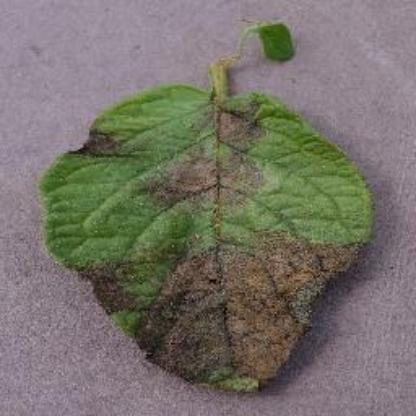Late-Blight: (27, 42, 369, 408)
